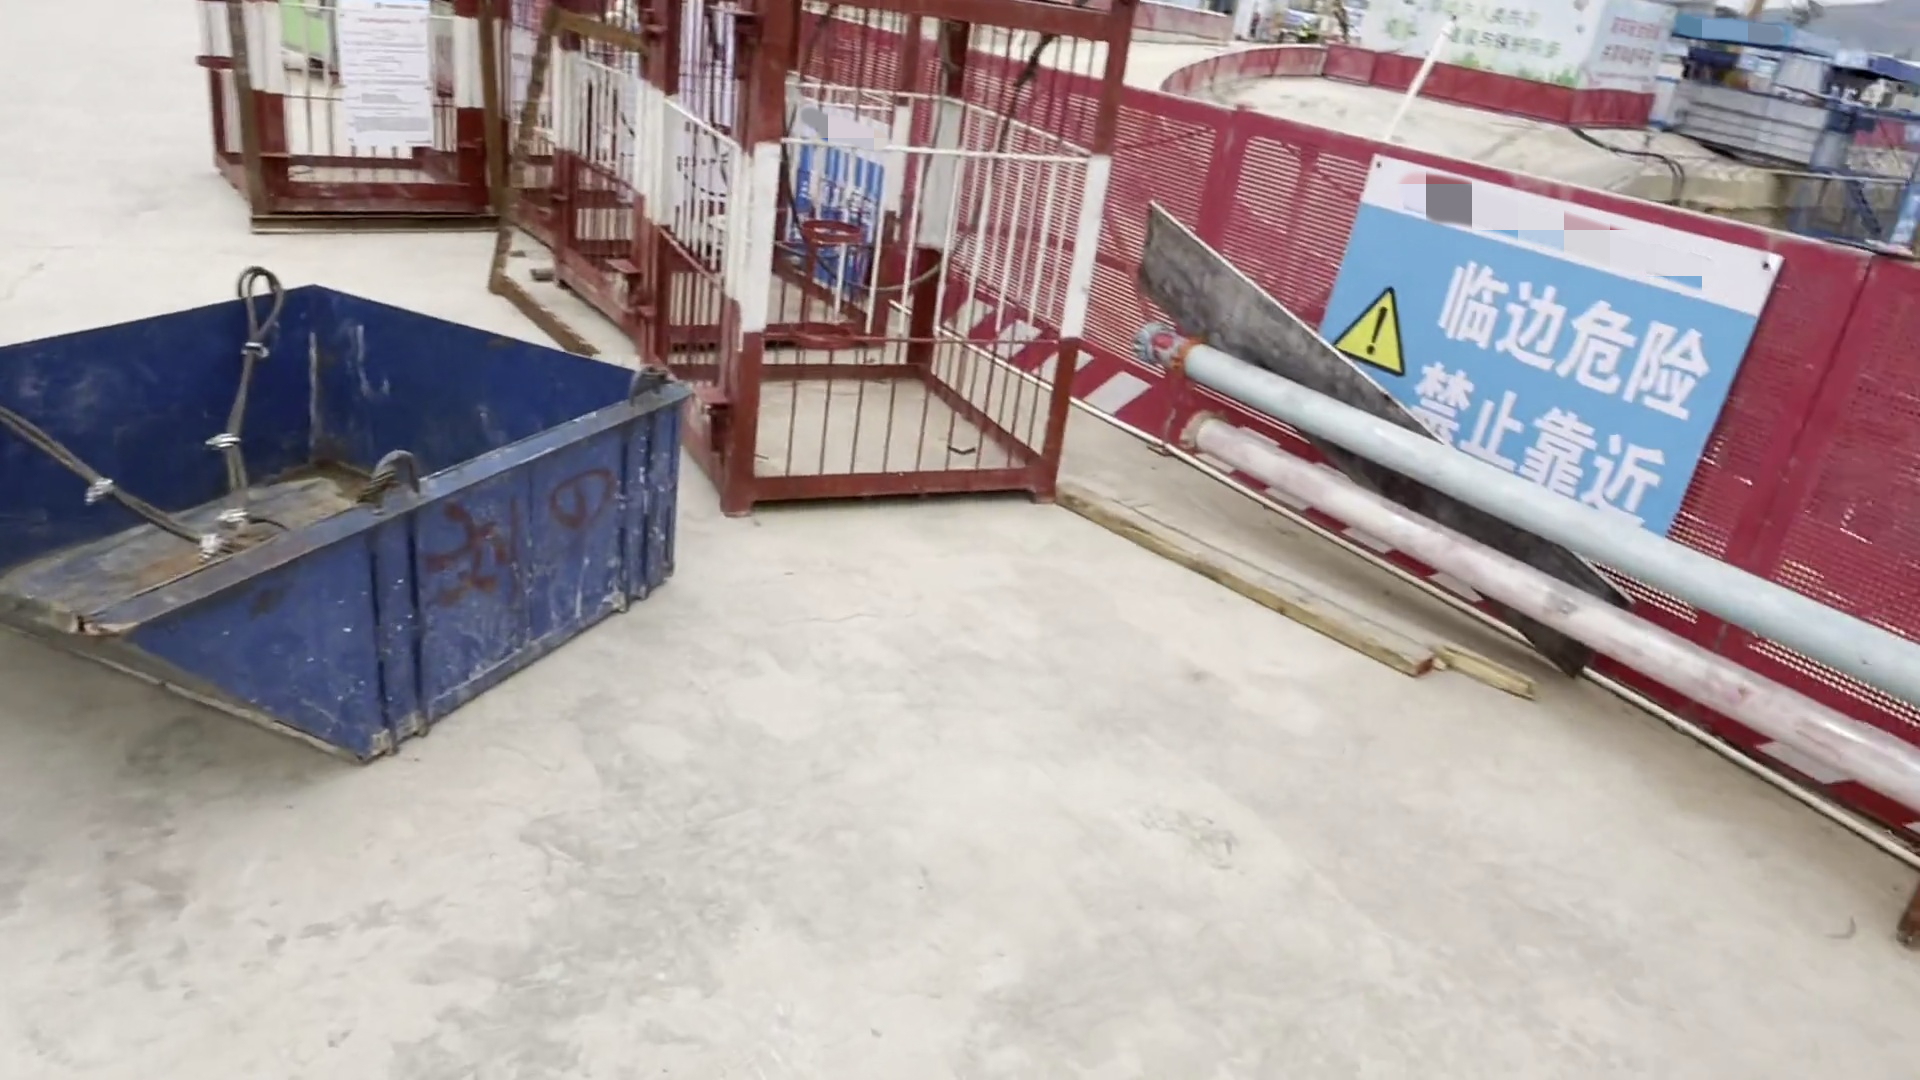fence: (1204, 131, 1760, 690), (927, 74, 1238, 465), (1764, 229, 1920, 702)
hopper: (1, 208, 720, 804)
slogan: (1378, 222, 1677, 520)
